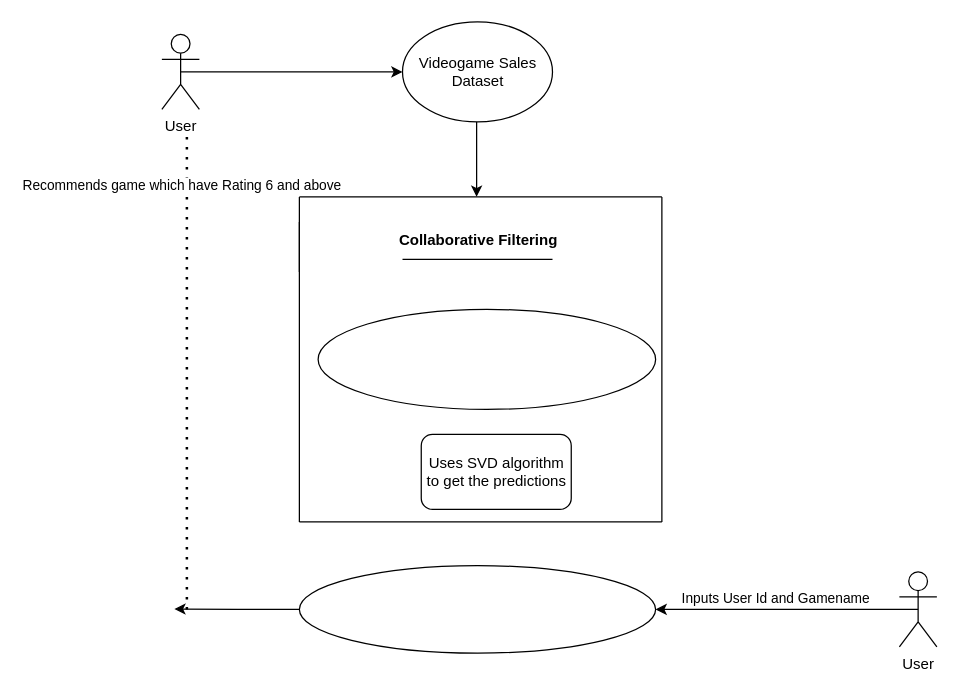
Some shapes in this 959 by 695 pixel diagram are drawn without their labels. The shapes that lost their labels are listed below. From the top down, each one's centre as x and y in pixels, then its label:
At (486,358): "Features includes UserId, Name, Rating".
At (477,608): "Recommends list of Videogames for the User".
